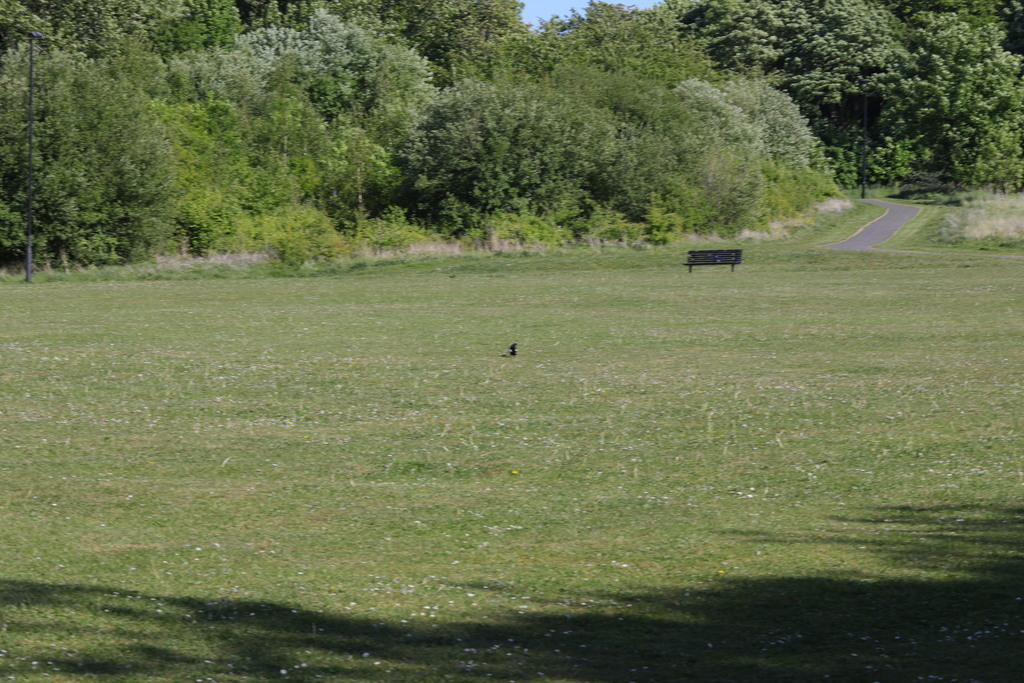Pica_pica: (506, 342, 518, 357)
